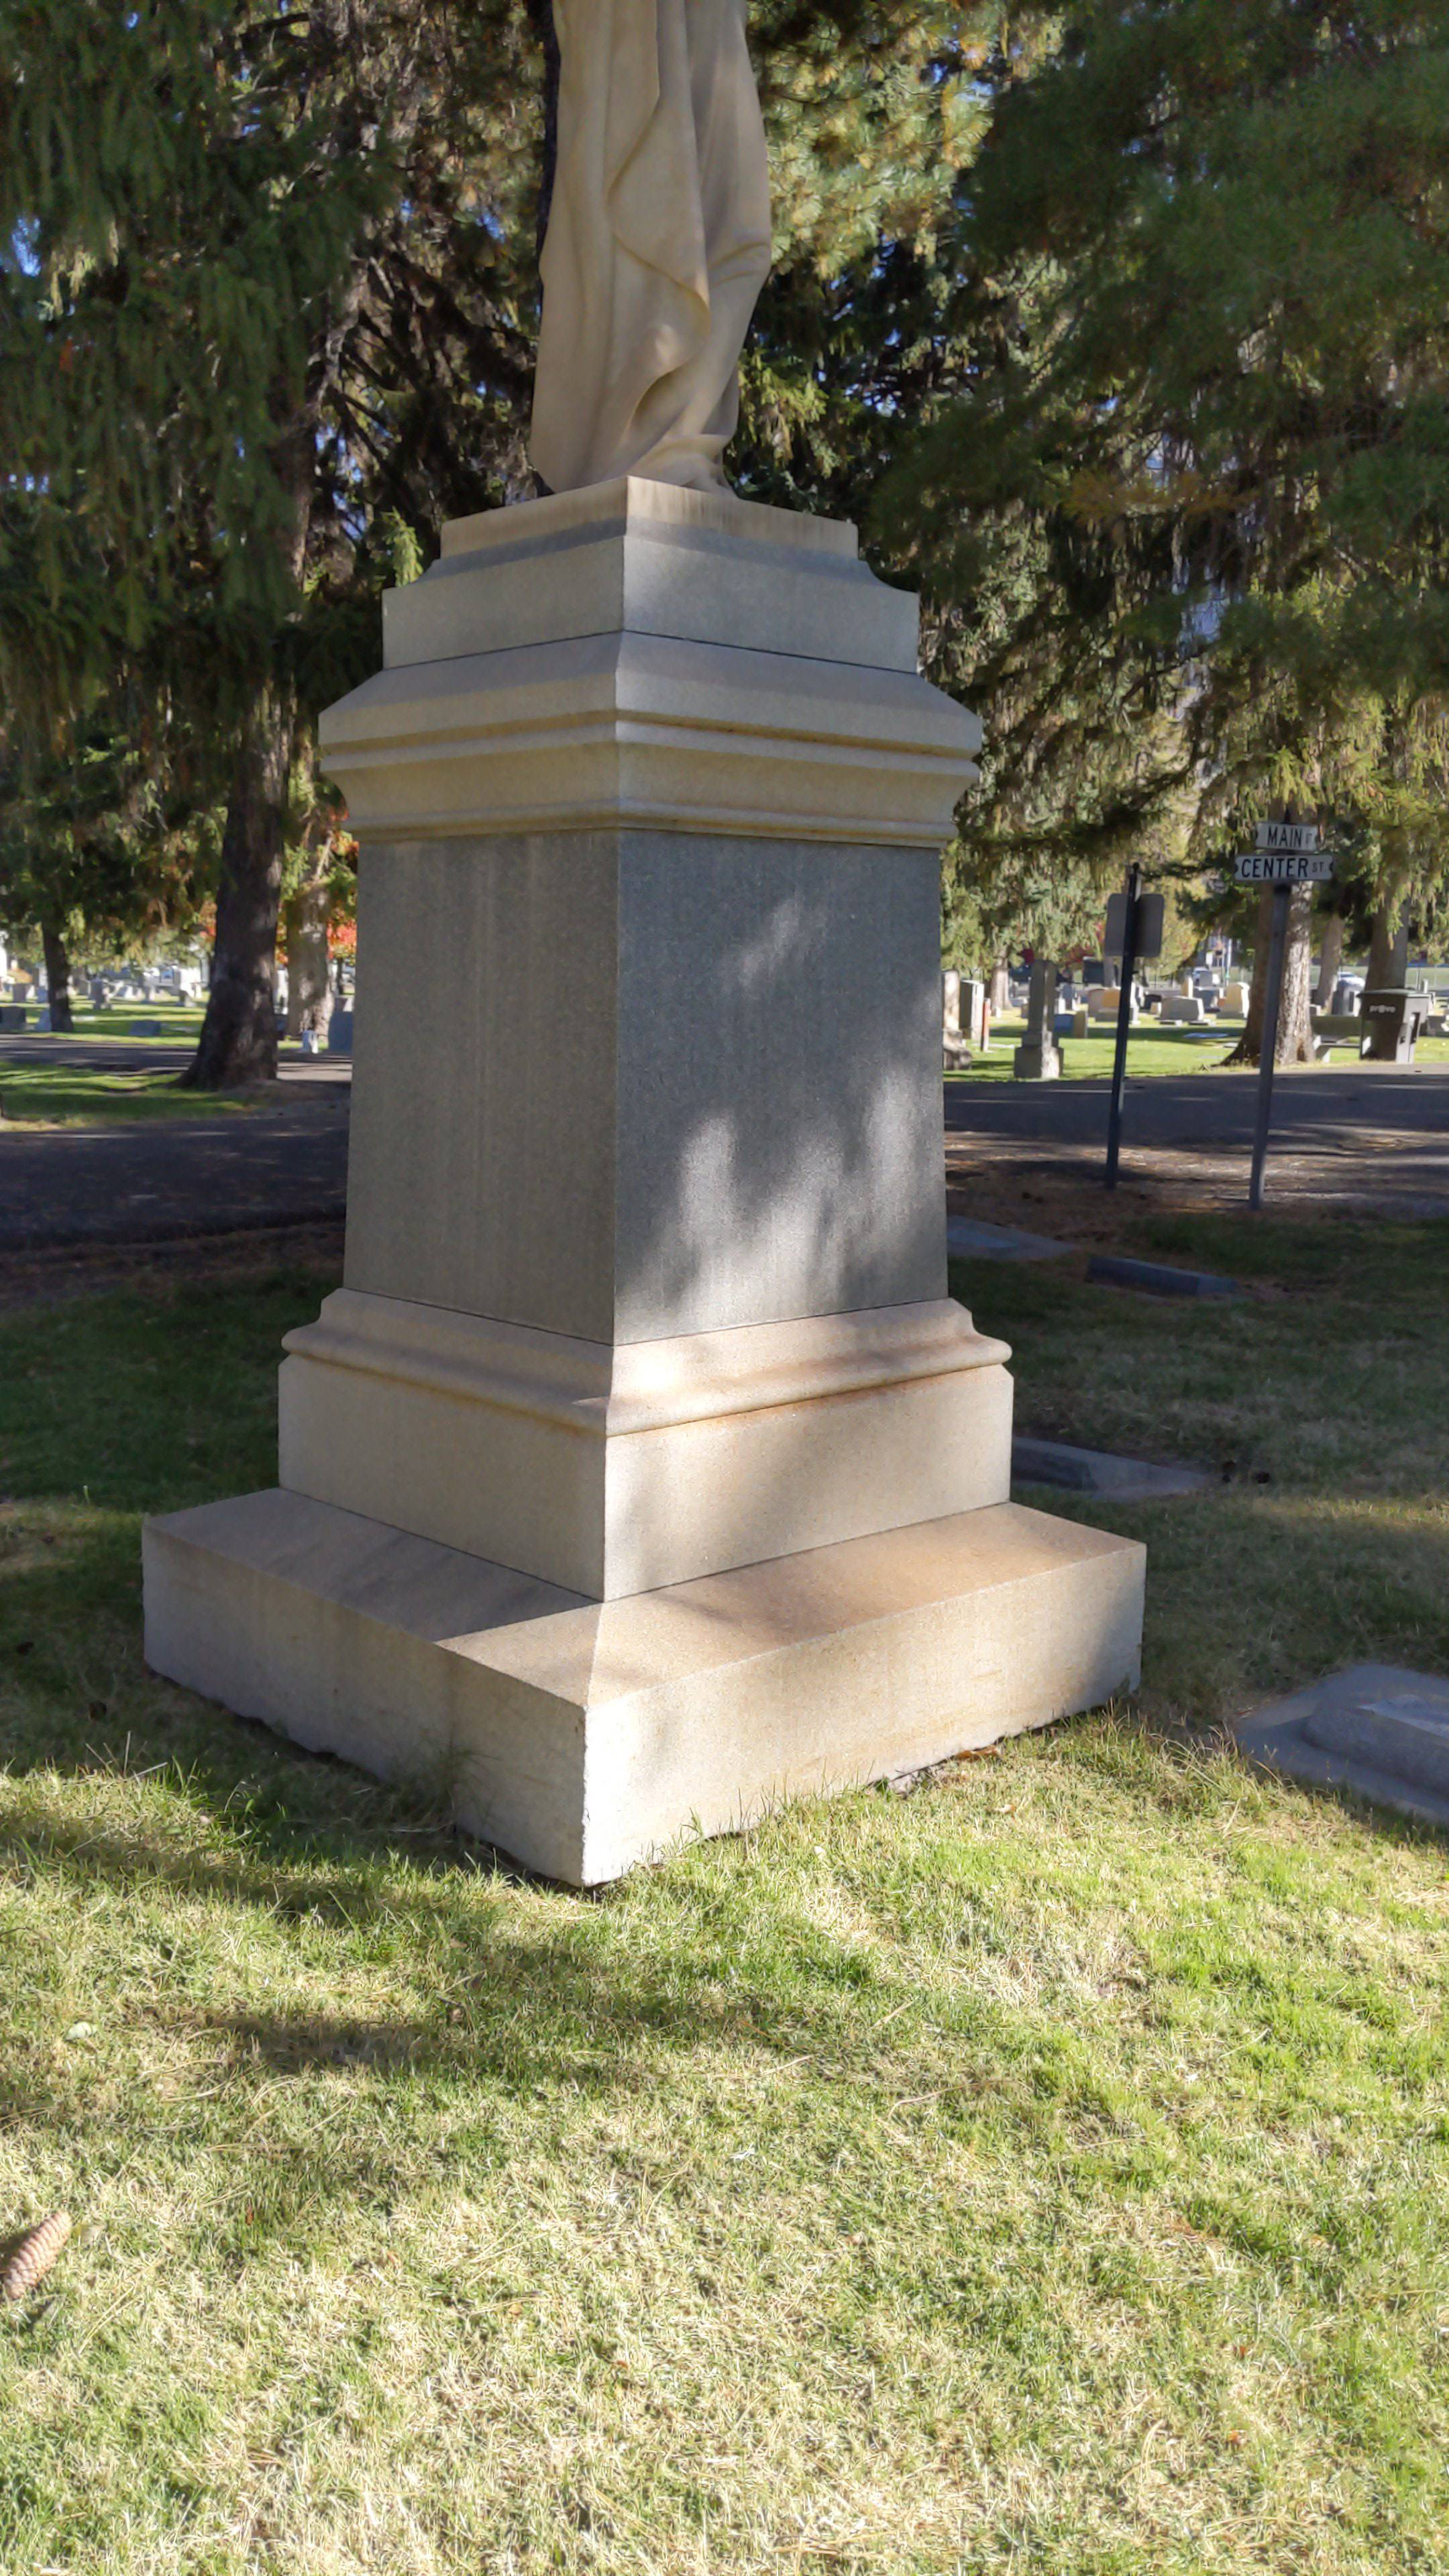obelisk: (274, 478, 1016, 1605)
